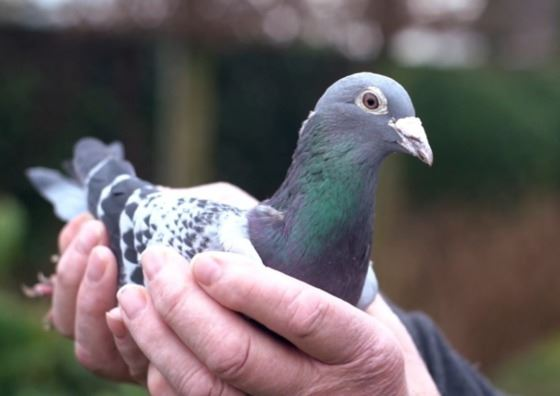pheasant: (43, 84, 437, 332)
